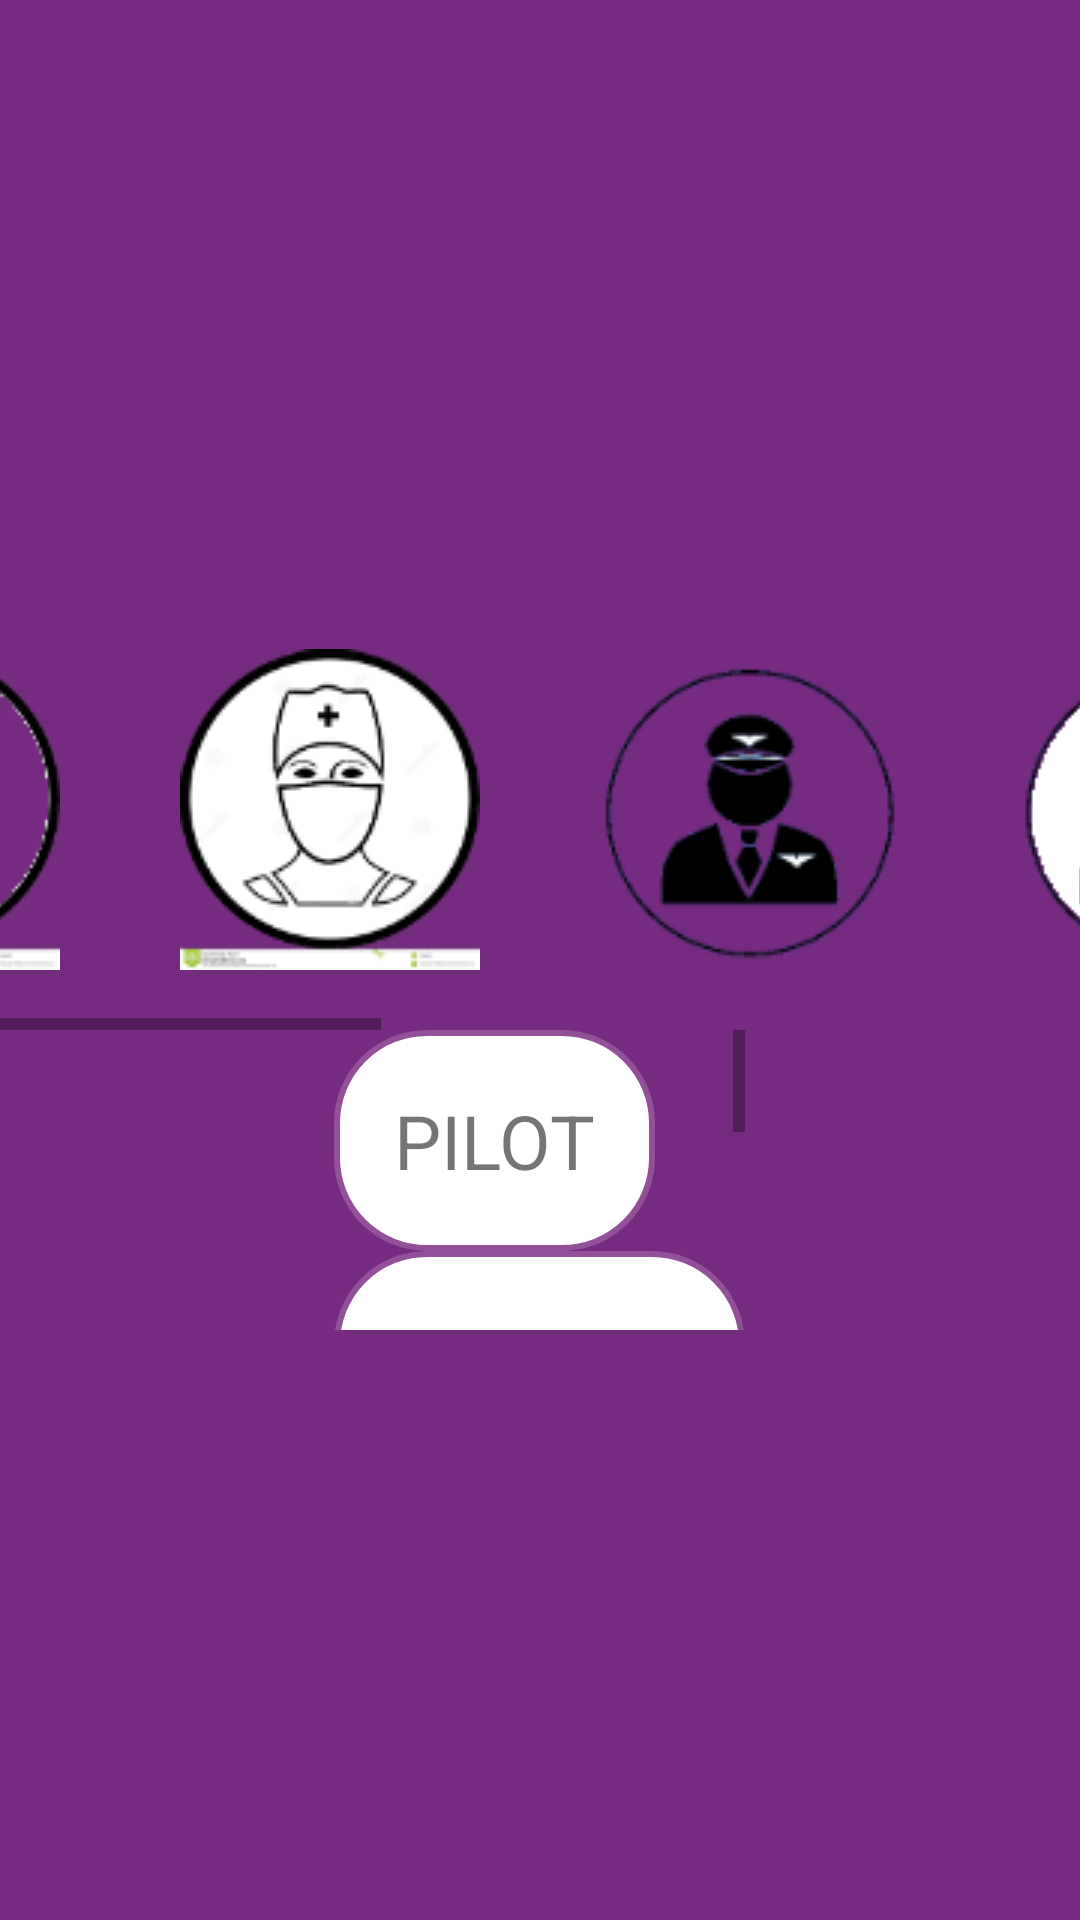

Named icons in this screenshot (1080px×1920px) and their centers, (x,y):
doctor on: (330,809)
